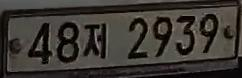2: (124, 15, 151, 60)
3: (173, 12, 197, 56)
4: (25, 20, 55, 67)
8: (55, 19, 81, 65)
9: (150, 13, 175, 58), (197, 11, 220, 55)
저: (81, 19, 111, 61)
